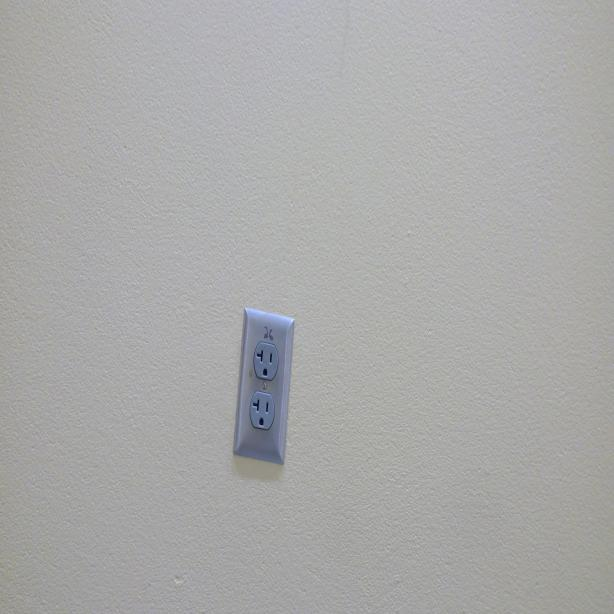typeb: (253, 340, 277, 381), (249, 392, 272, 431)
